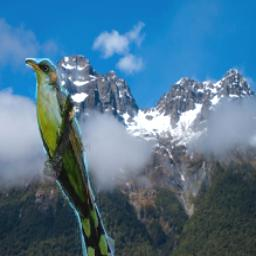Cuckoo: (26, 59, 115, 256)
